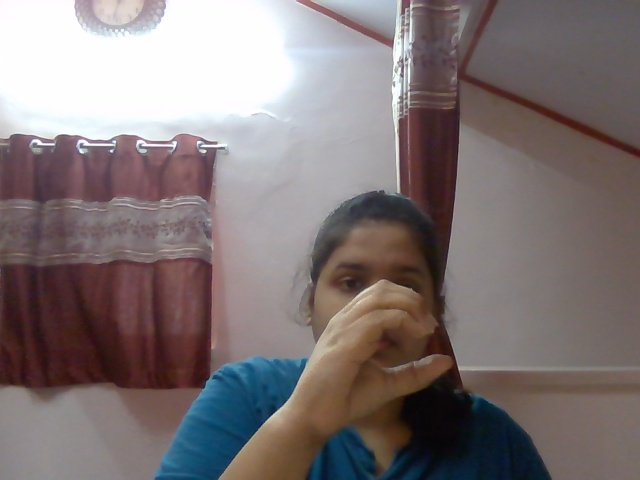c: (296, 273, 470, 422)
